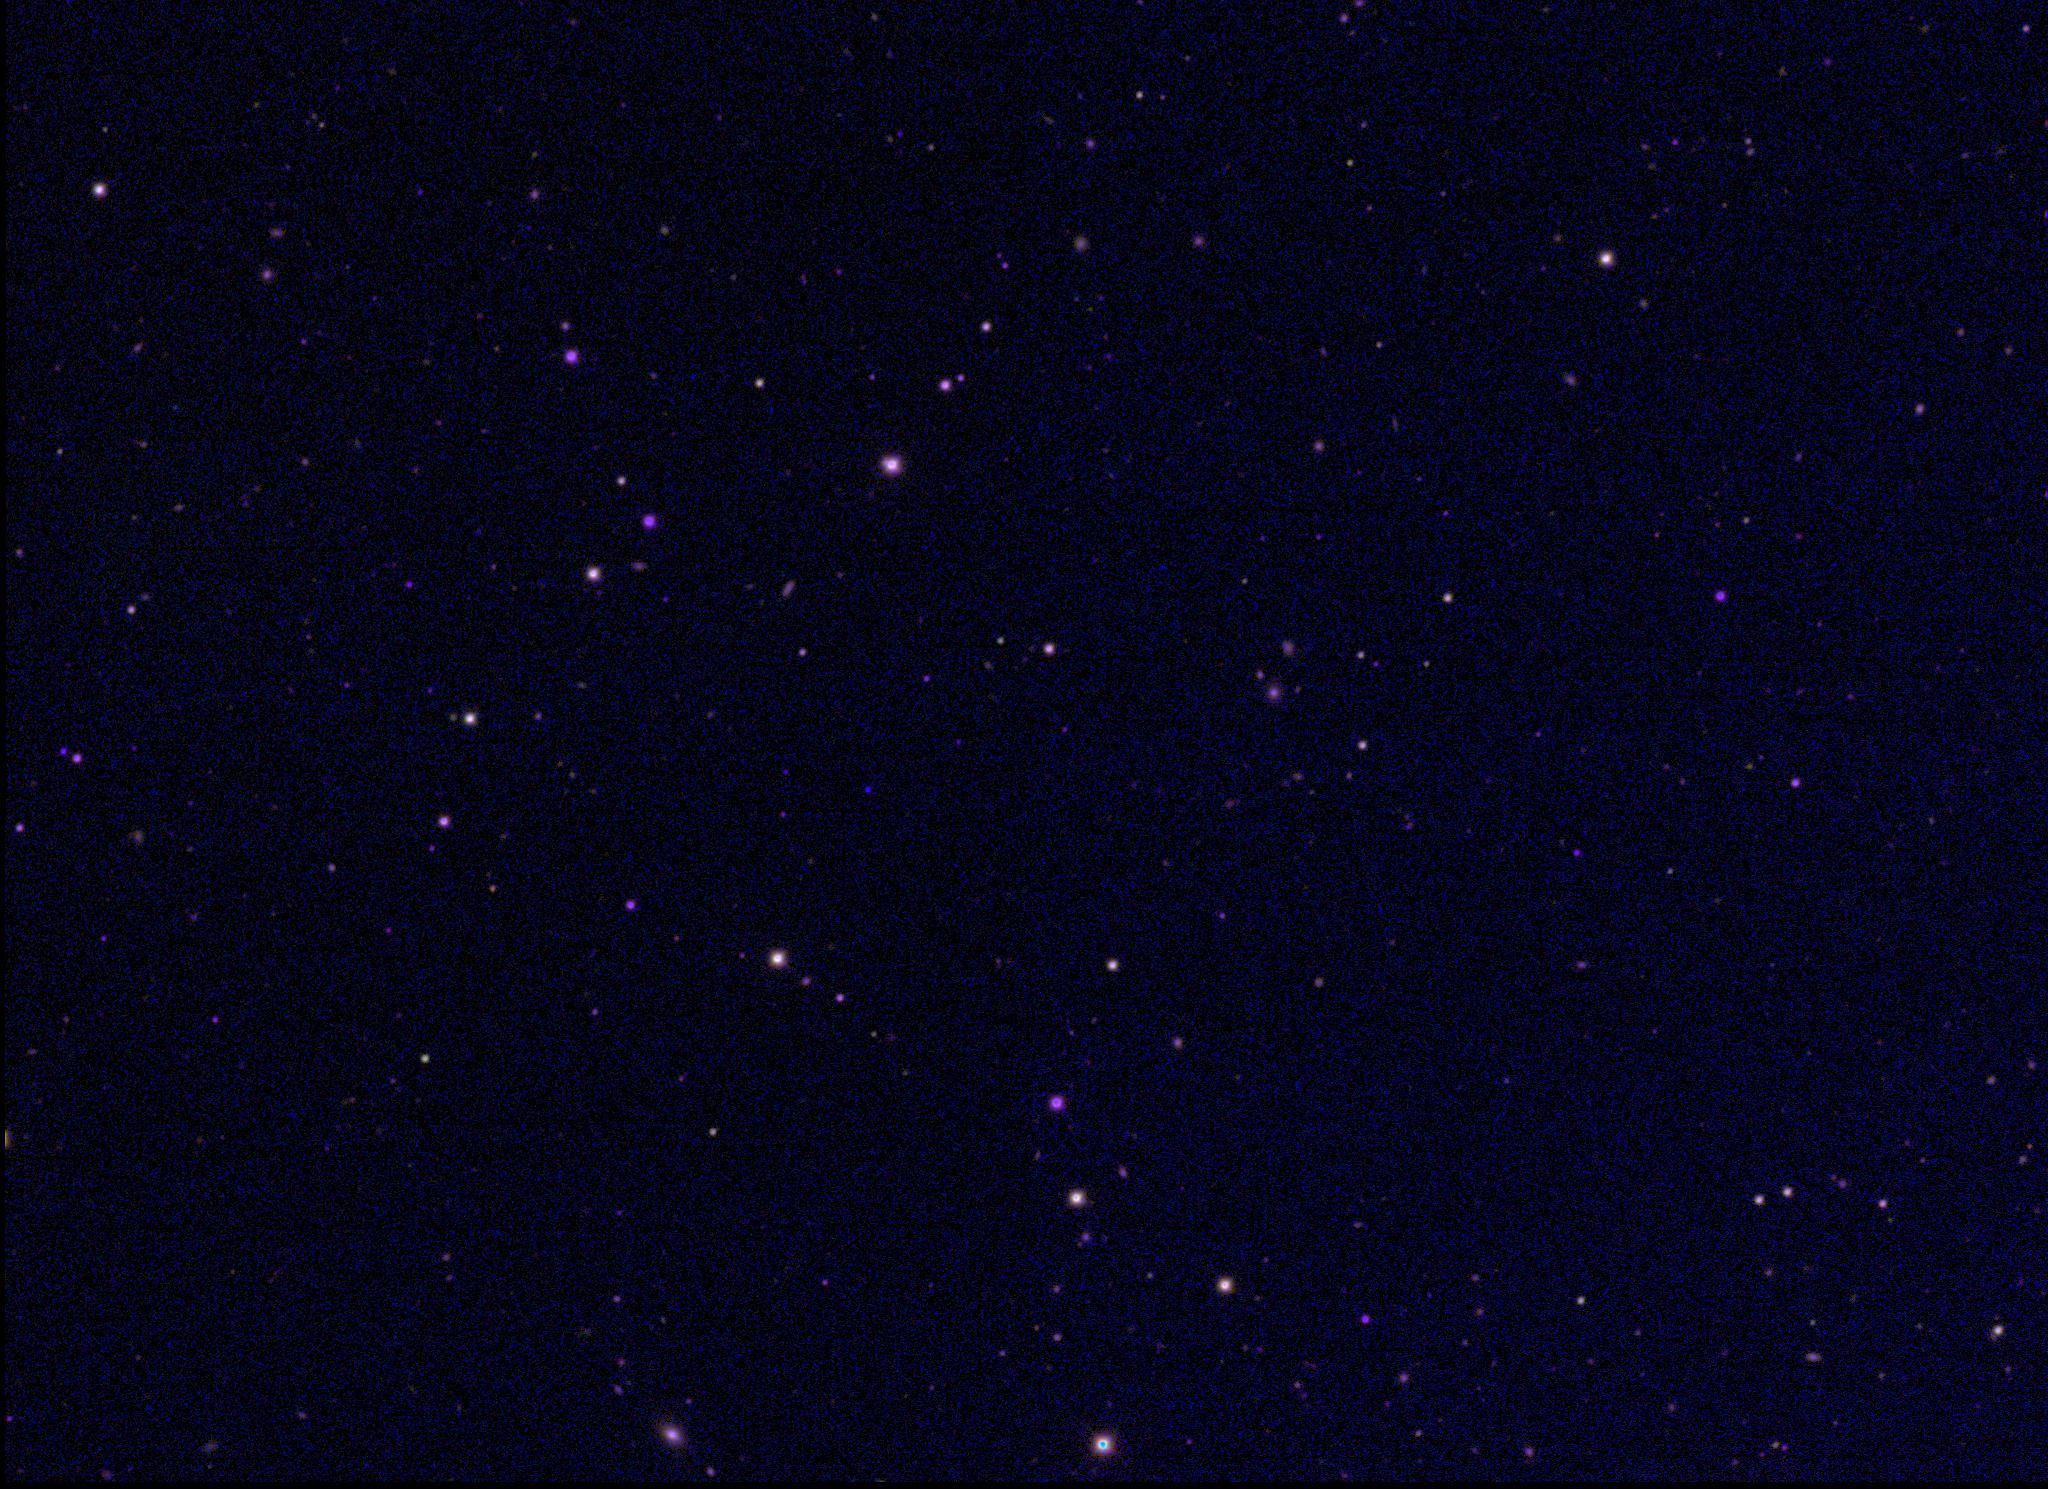L: (860, 783, 875, 797)
